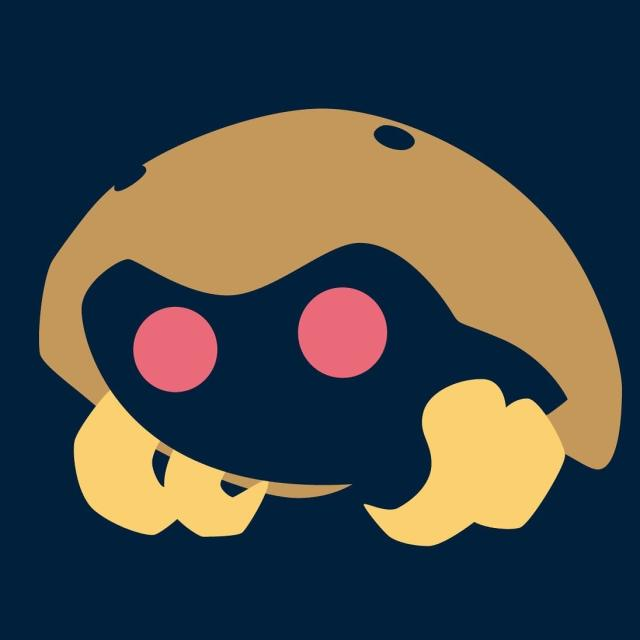Kabuto: (26, 94, 638, 578)
